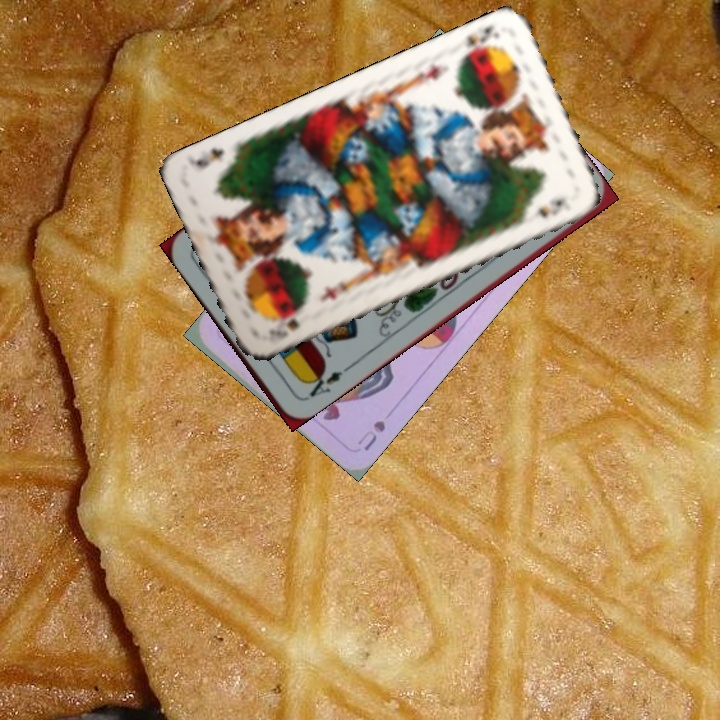EA: (300, 363, 351, 404)
SK: (454, 20, 503, 63), (265, 314, 302, 342)
SU: (353, 416, 388, 454)
